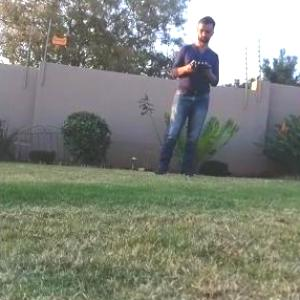follow: (148, 6, 222, 182)
